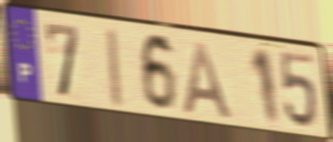1: (248, 47, 282, 129)
5: (278, 48, 320, 133)
6: (138, 32, 181, 118)
7: (42, 20, 82, 102)
A: (181, 39, 237, 123)
I: (106, 25, 126, 112)
